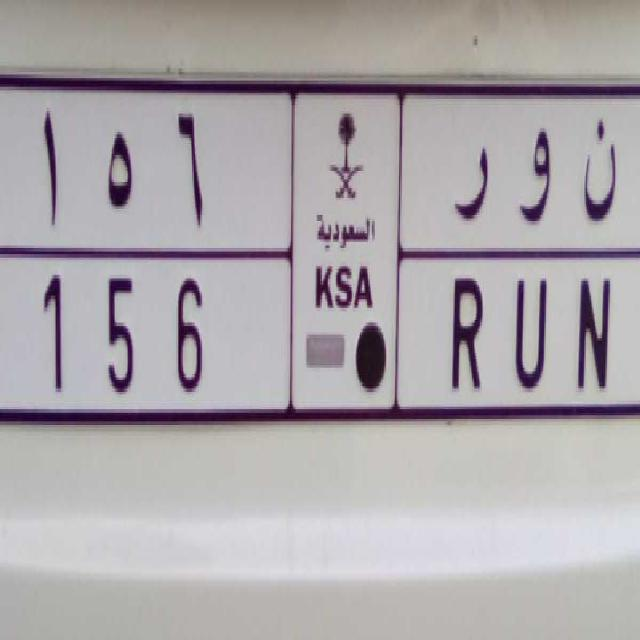license_plate: (1, 248, 640, 438)
